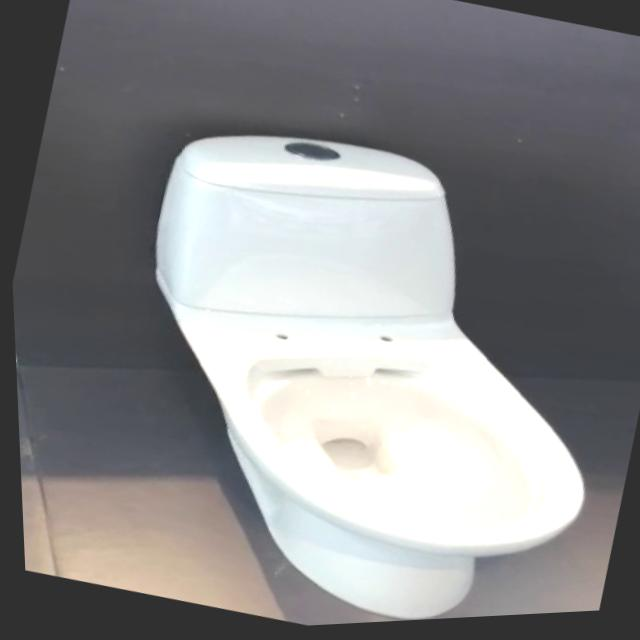toilet: (67, 91, 640, 637)
